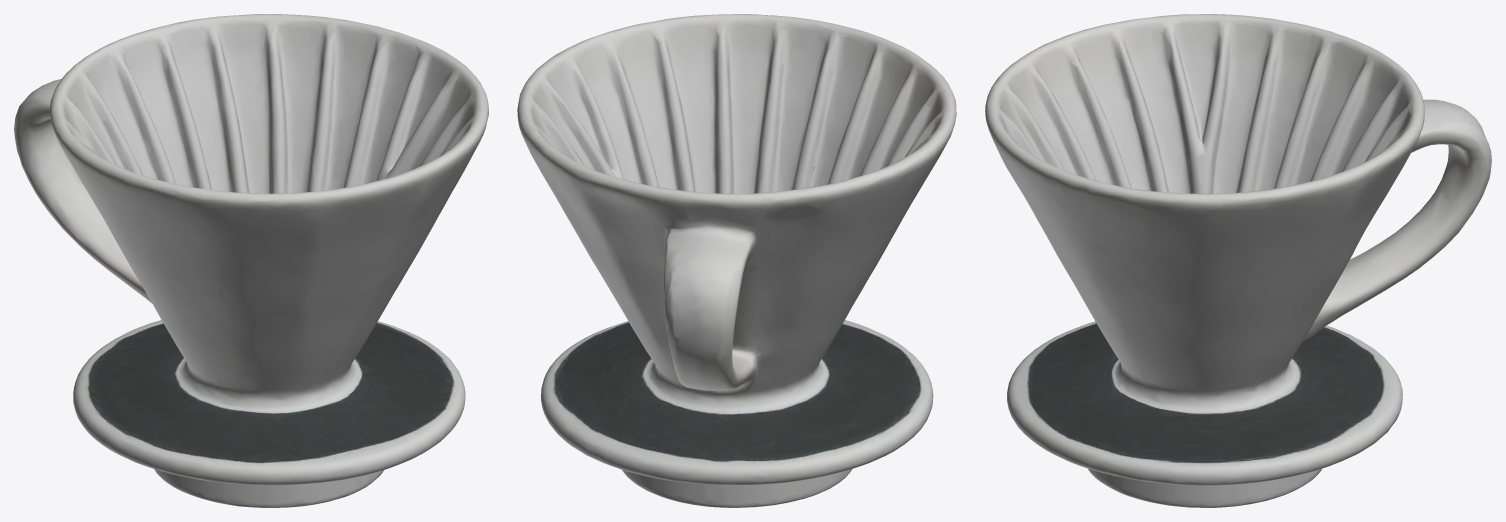
Rendered from dripper.glb.
3 views of the same model, side by side, from view 1: azimuth 30°, elevation 25°; view 2: azimuth 150°, elevation 25°; view 3: azimuth 270°, elevation 25° (orthographic).
Visible parts, largest first — view 1: tripo_node_f8a8931c-aa22-4215-86a7-b8c5ccd804b1; view 2: tripo_node_f8a8931c-aa22-4215-86a7-b8c5ccd804b1; view 3: tripo_node_f8a8931c-aa22-4215-86a7-b8c5ccd804b1.
Part boxes in pixels (x1,y1,x2,y2): tripo_node_f8a8931c-aa22-4215-86a7-b8c5ccd804b1: [14, 14, 488, 507]; tripo_node_f8a8931c-aa22-4215-86a7-b8c5ccd804b1: [517, 14, 956, 507]; tripo_node_f8a8931c-aa22-4215-86a7-b8c5ccd804b1: [985, 14, 1491, 507].
Bounding box in the file's own units: 0.8736 × 0.7727 × 1.
Materials: 1 (1 with a texture image).
